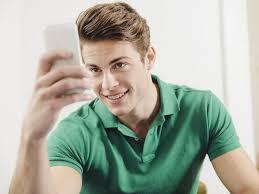face: (84, 40, 141, 116)
